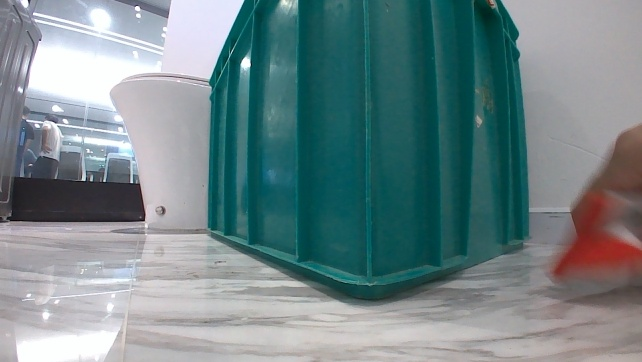toilet: (108, 70, 212, 234)
